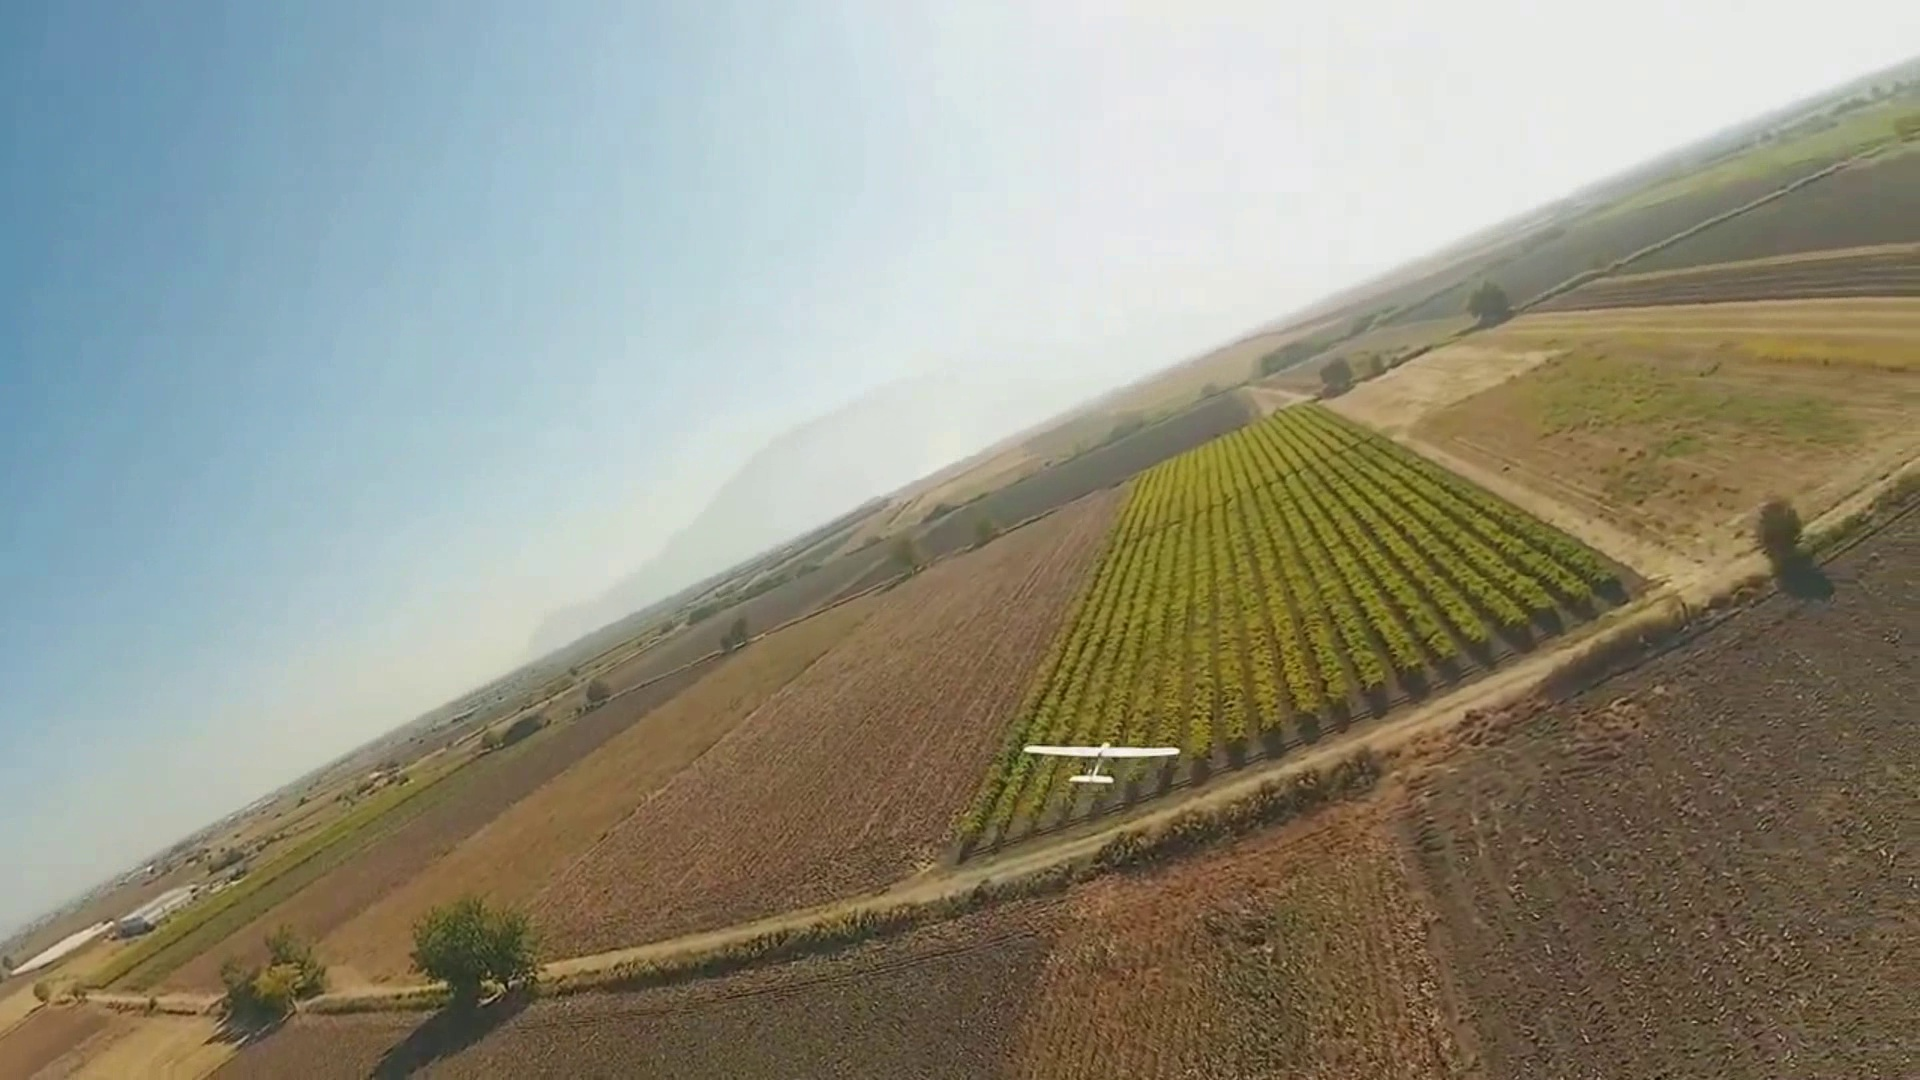airplane: (51, 54, 1917, 961)
